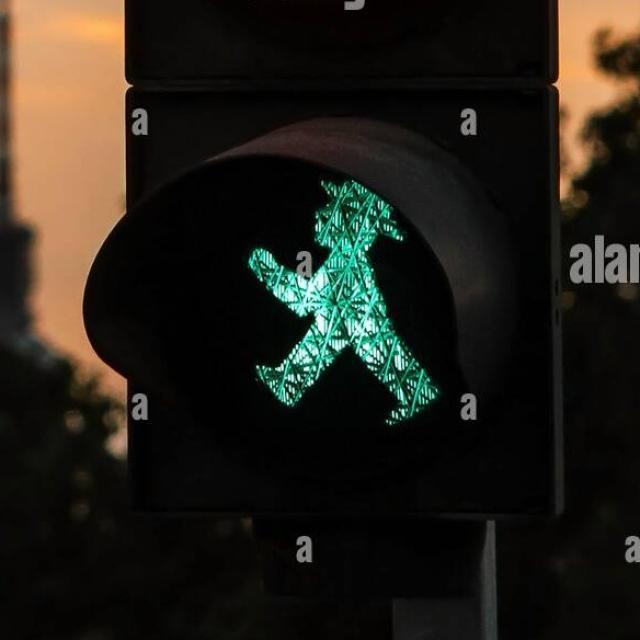geen-crossing: (237, 166, 440, 430)
